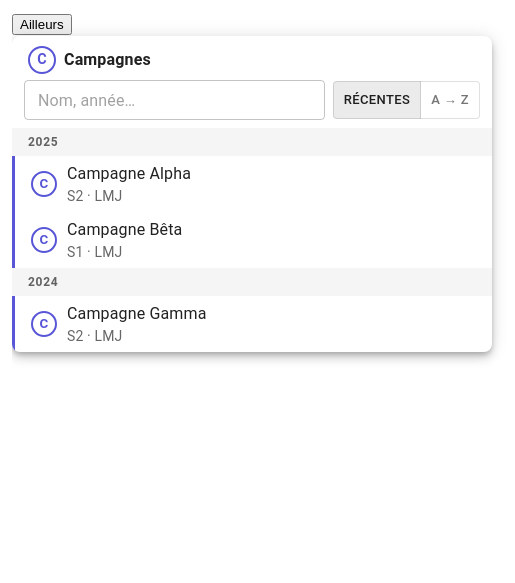
Test: EntityRefPicker — étape 2 (références de la campagne) › plafonne chaque groupe à 8 résultats, la bande indiquant le total
This screenshot has width=515, height=583.
Click the menu item "C Campagne Alpha S2 · LMJ" at {"x": 129, "y": 174}, box [12,156,492,212]
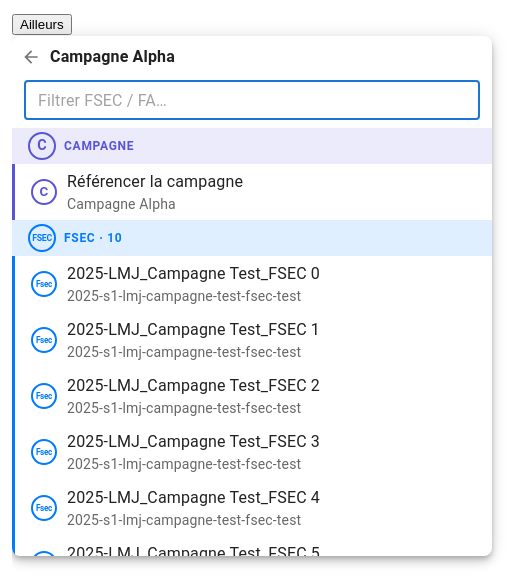
Now the text "FSEC · 10" is shown, box [64,231,122,245]
